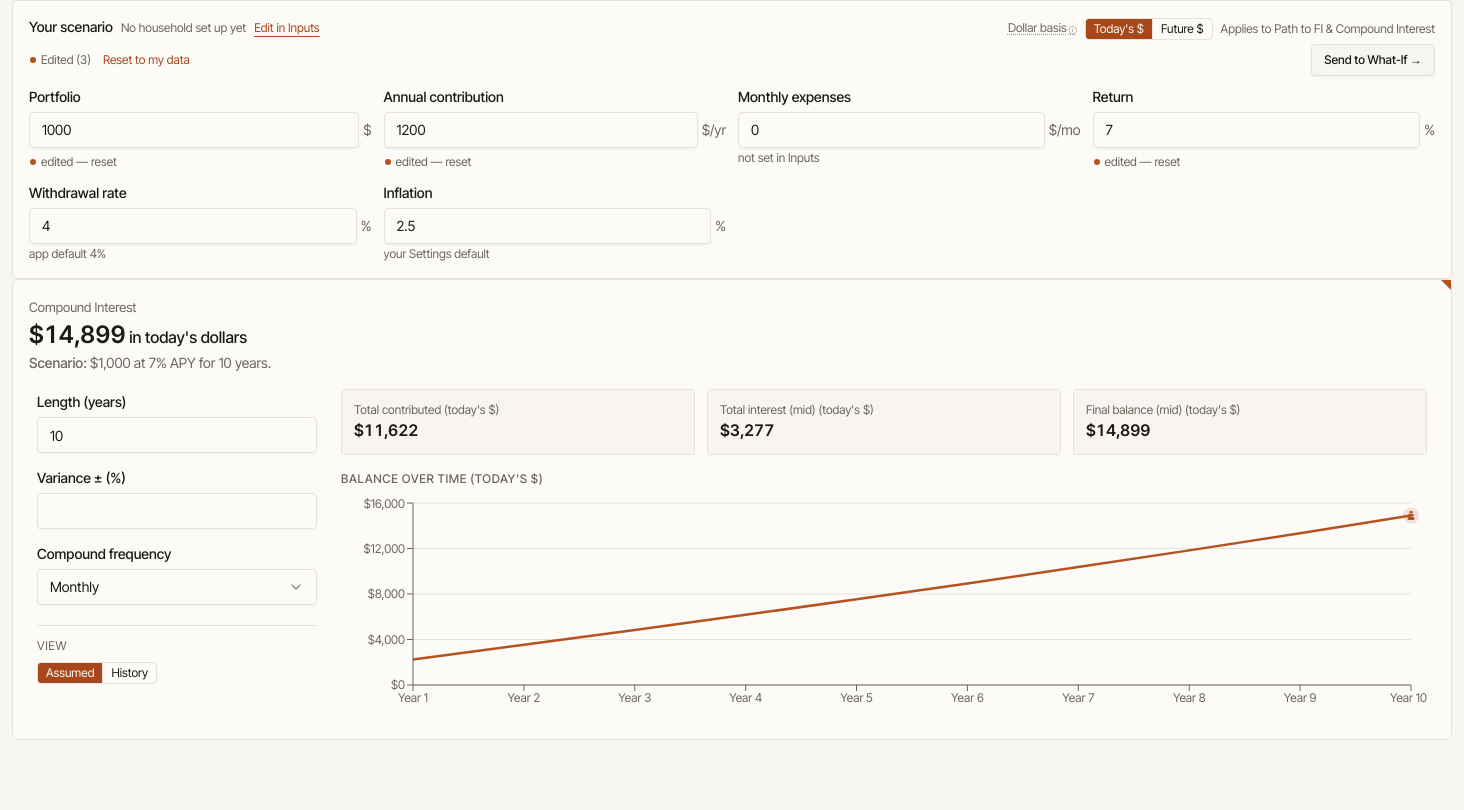
Scenario: W5 page integration: one control, page-wide effect, session semantics › clicking the BAR control flips the CARD (the one-store wire)
The image size is (1464, 810).
Click the button "Future $": (1182, 28) [1152,18,1212,38]
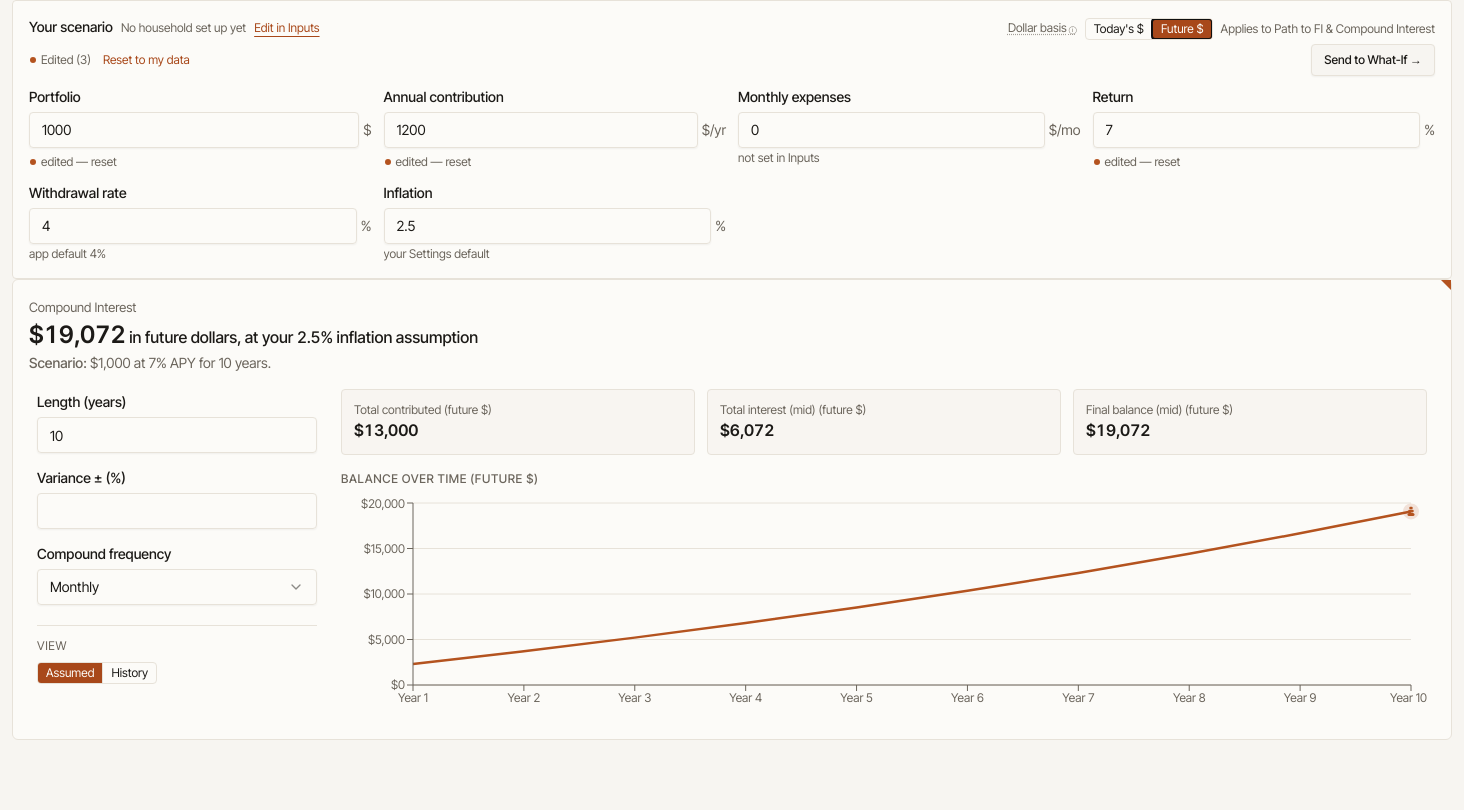
Now the element with test id "compound-headline" shows "in future dollars", box [129,327,478,347]
